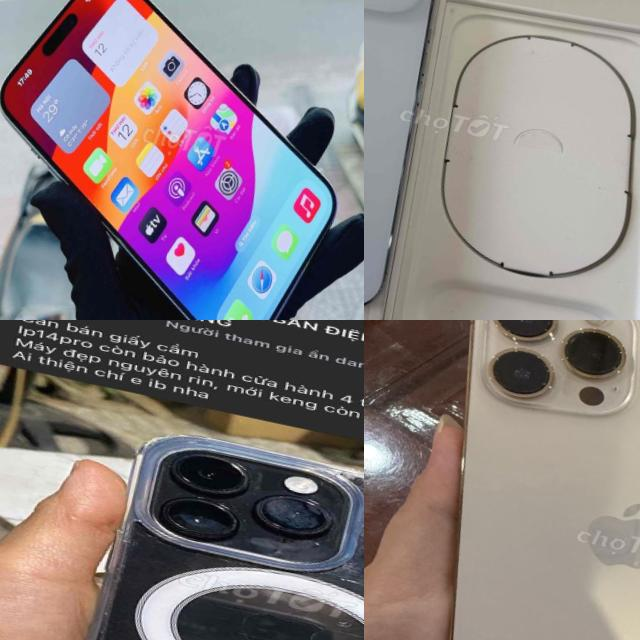gen_12_13: (0, 0, 364, 320), (373, 320, 640, 640)
gen_14: (34, 403, 364, 640)
gen_17: (364, 0, 468, 320)
scratch: (170, 466, 342, 560), (290, 454, 364, 616)
